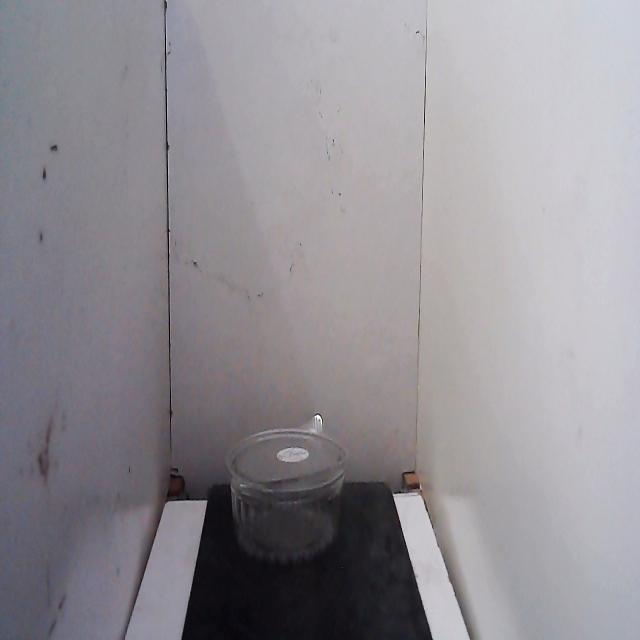plastico: (223, 406, 355, 572), (218, 446, 222, 446)
